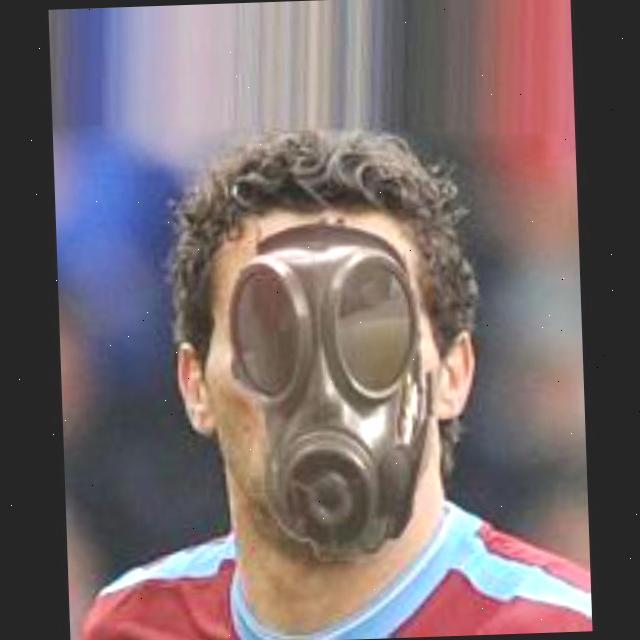suspicion: (165, 102, 494, 553)
